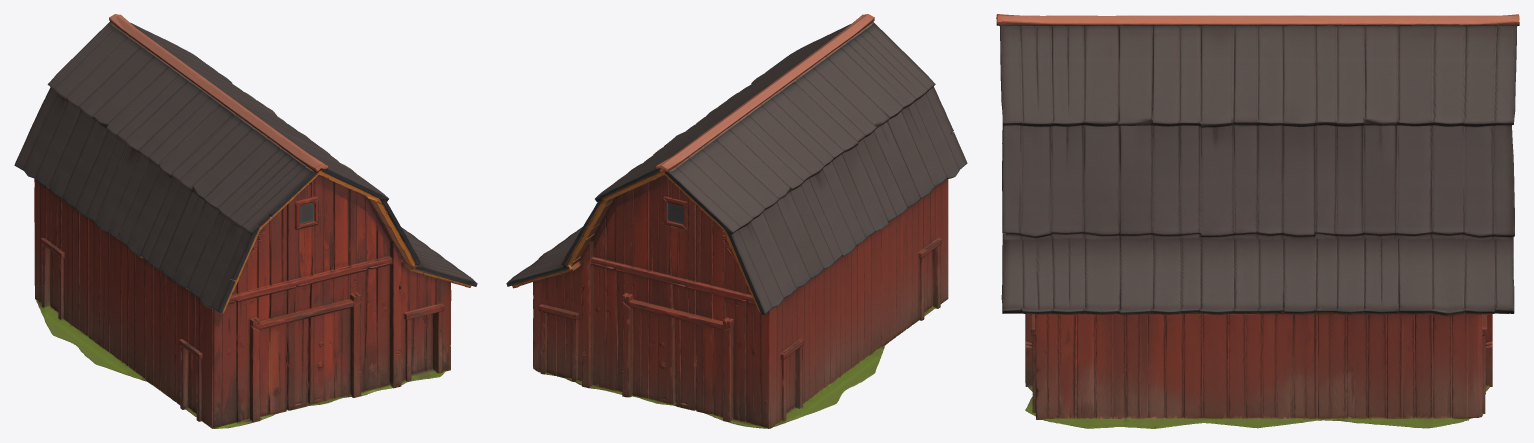
File: red_barn_3d_model.fbx
3 views of the same model, side by side, from view 1: azimuth 30°, elevation 25°; view 2: azimuth 150°, elevation 25°; view 3: azimuth 270°, elevation 25° (orthographic). The views are drawn at different scales.
Visible parts, largest first — view 1: tripo_node_439d74d1; view 2: tripo_node_439d74d1; view 3: tripo_node_439d74d1.
Boxes of the visible parts, x1,y1,x2,y2 form: tripo_node_439d74d1: (14,14,477,428); tripo_node_439d74d1: (506,14,967,428); tripo_node_439d74d1: (996,14,1519,428).
Bounding box in the file's own units: 0.7592 × 0.6603 × 0.986.
